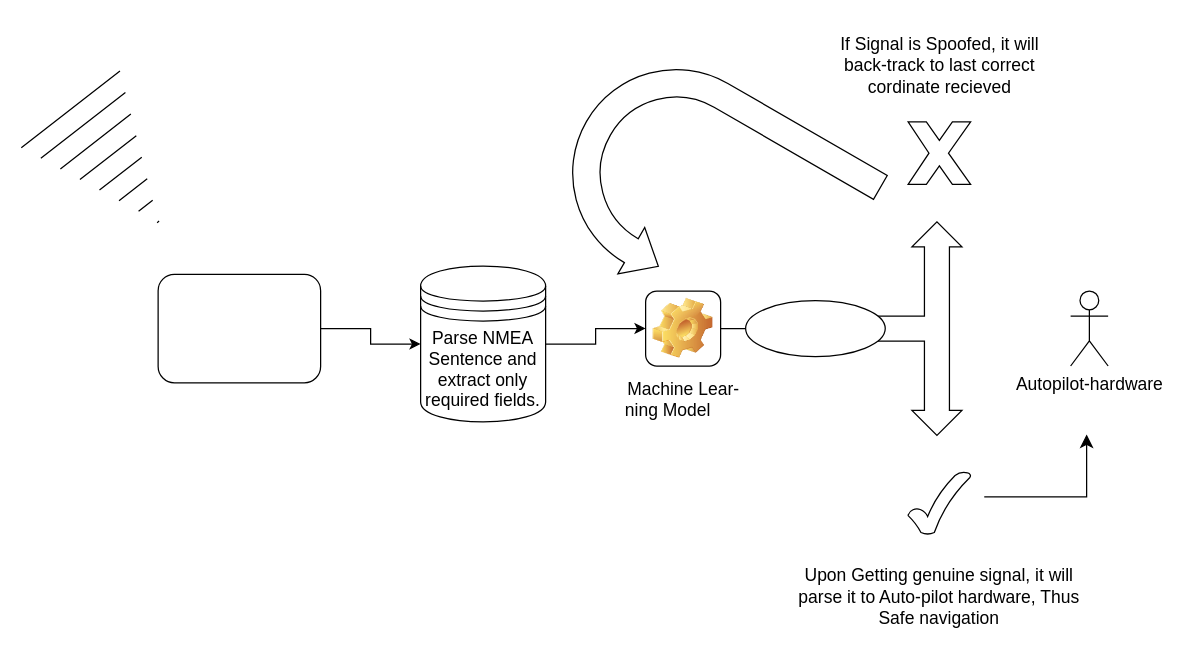
This 1185x668 diagram has some shape labels left out. Each missing label, with the box of its shape:
Decision Layer: (744, 299, 885, 356)
GPS Module of Autopilot hardware receiving NMEA from Sateliite: (157, 273, 321, 383)
